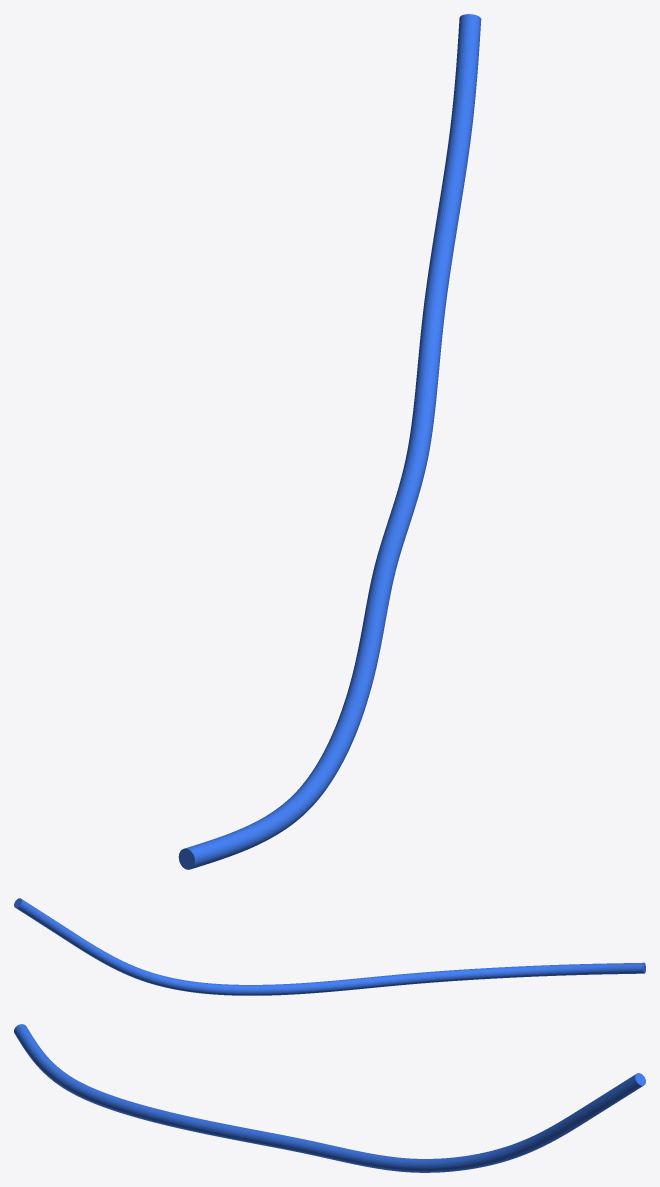
The model's file is faces21 - linechin.glb.
3 views of the same model, one above another, from view 1: azimuth 30°, elevation 25°; view 2: azimuth 150°, elevation 25°; view 3: azimuth 270°, elevation 25° (orthographic). The views are drawn at different scales.
Visible parts, largest first — view 1: Tube; view 2: Tube; view 3: Tube.
Boxes of the visible parts, box(x1,y1,x2,y2) form: Tube: box(178, 14, 481, 869); Tube: box(14, 898, 645, 995); Tube: box(14, 1024, 645, 1172).
Bounding box in the file's own units: 0.4255 × 0.1709 × 0.4672.
